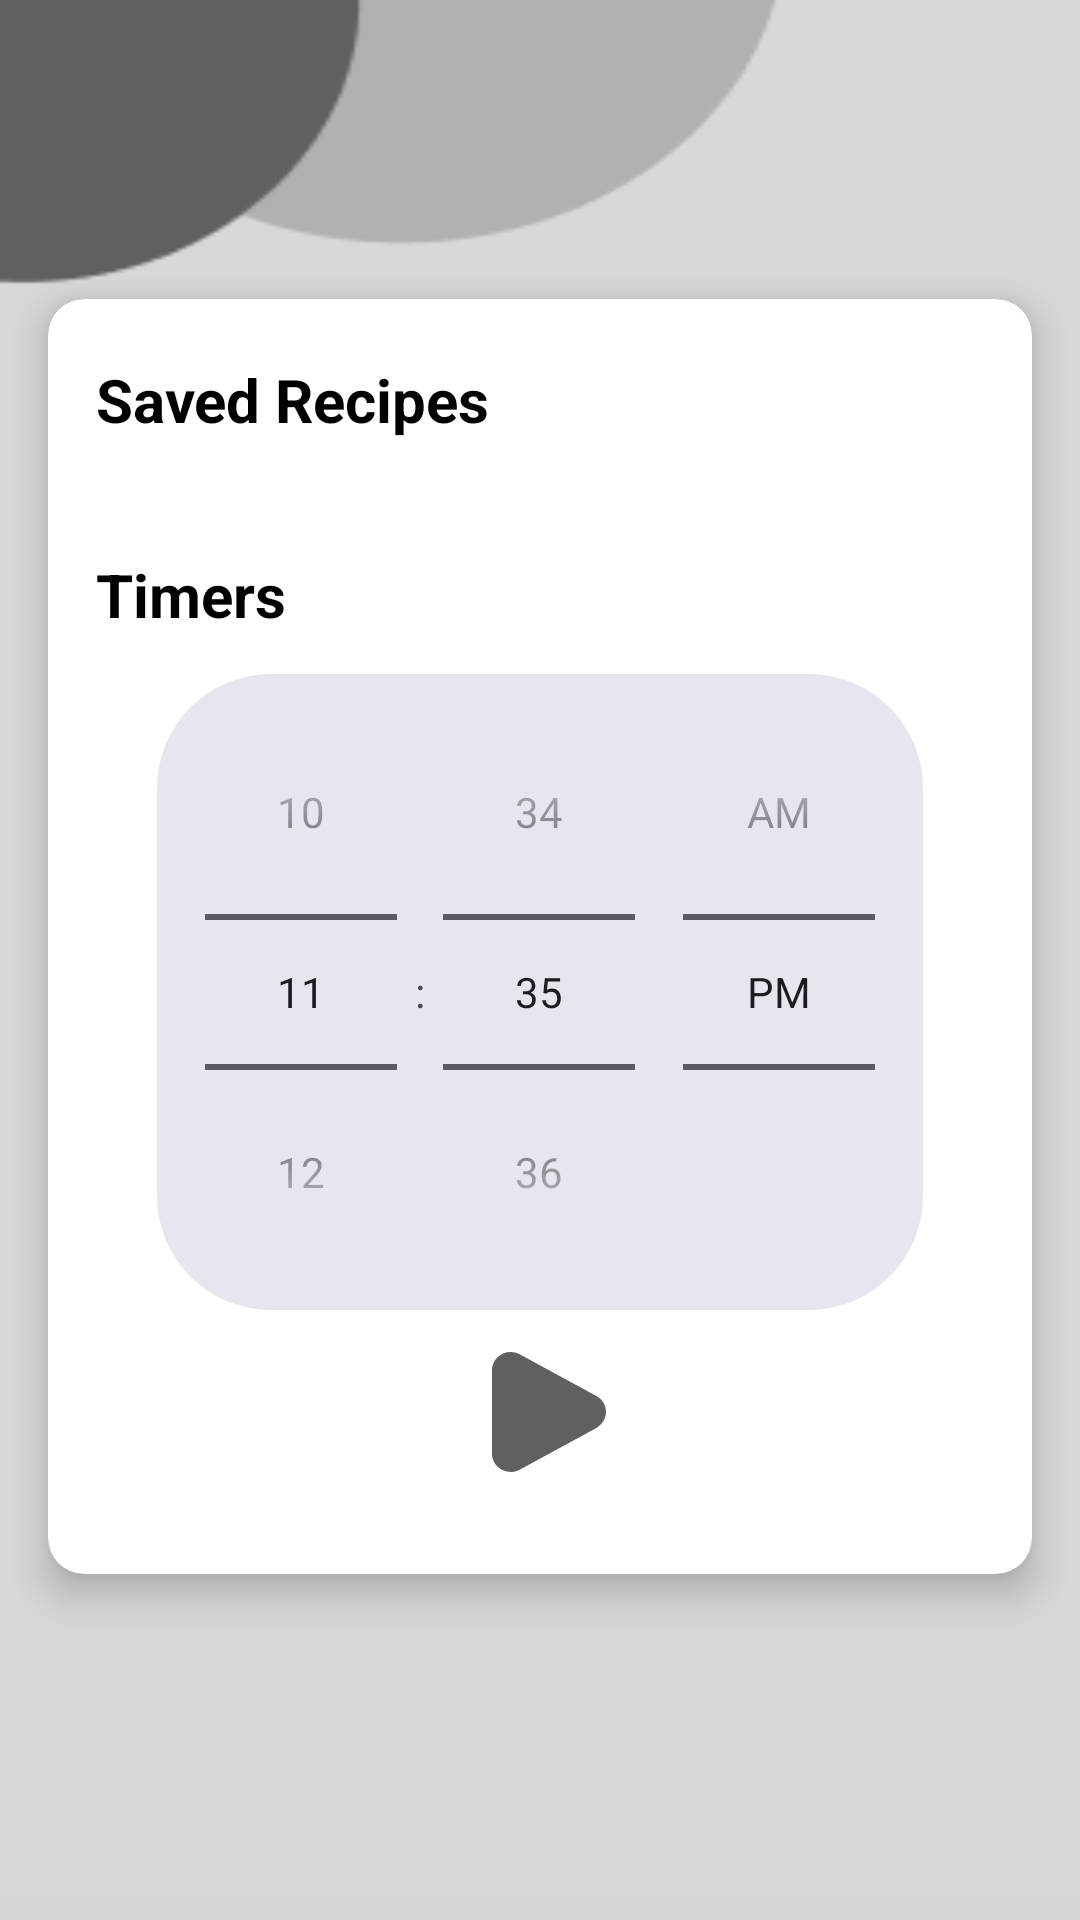

Where icons sit on this 1080 x 1920 app screen, as BBox(x1, y1, x2, y2):
Start Timer: BBox(492, 1352, 606, 1472)
